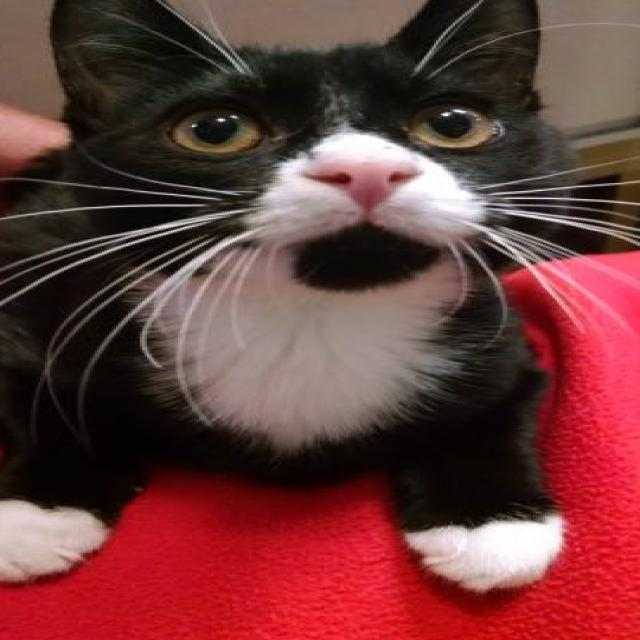Tuxedo: (0, 0, 578, 596)
